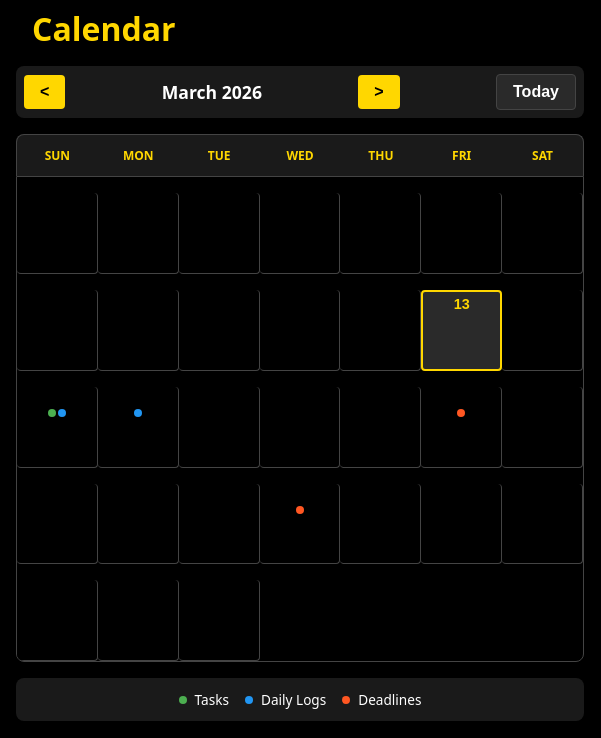
CalendarView › navigates to previous month
The image size is (601, 738).
What coordinates should you click on to do the following:
click the button named "Previous month"
I would click on:
 (45, 92)
Its box is x1=24 y1=75 x2=65 y2=109.
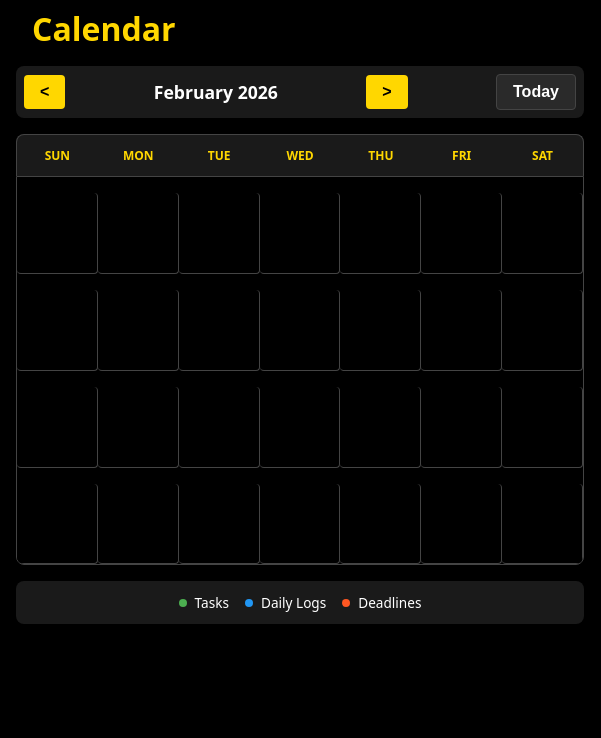
Now the heading "February 2026" is shown, box x1=154 y1=80 x2=278 y2=104
